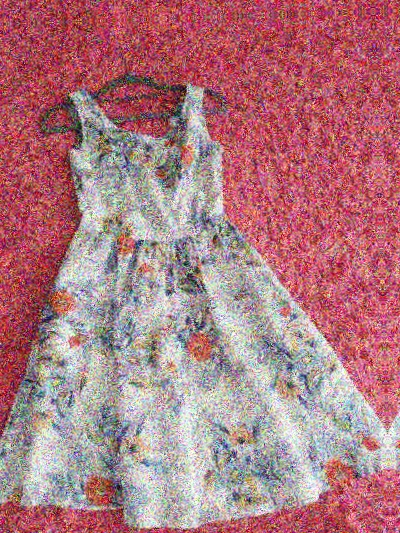Dress: (0, 53, 387, 533), (379, 39, 400, 520)
